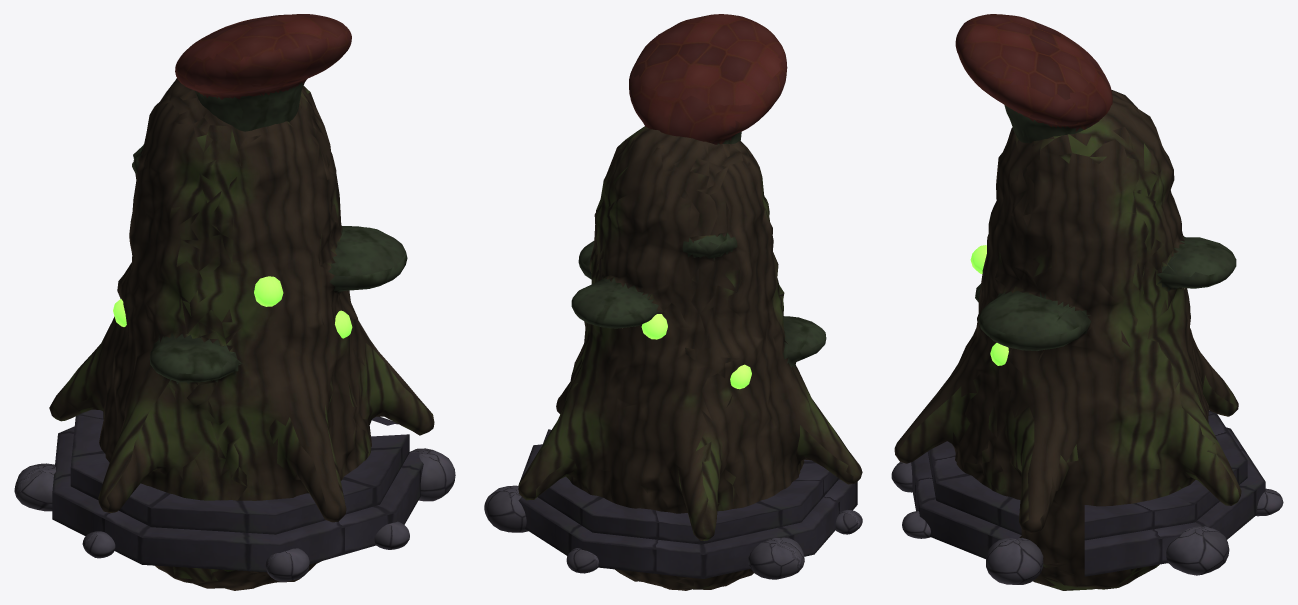
The model's file is spore.glb.
3 views of the same model, side by side, from view 1: azimuth 30°, elevation 25°; view 2: azimuth 150°, elevation 25°; view 3: azimuth 270°, elevation 25° (orthographic). The views are drawn at different scales.
Parts seen in each view (by area): view 1: Base, Turret; view 2: Base, Turret; view 3: Base, Turret.
Part boxes in pixels (x1=…): Base: x1=14, y1=78, x2=455, y2=590; Turret: x1=175, y1=14, x2=351, y2=131; Base: x1=484, y1=126, x2=862, y2=590; Turret: x1=629, y1=14, x2=787, y2=144; Base: x1=891, y1=90, x2=1283, y2=590; Turret: x1=955, y1=14, x2=1112, y2=143.
Bounding box in the file's own units: 0.9033 × 1.44 × 0.9253.
7 materials, 7 textured.
